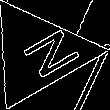N_SW: (3, 23, 74, 84)
